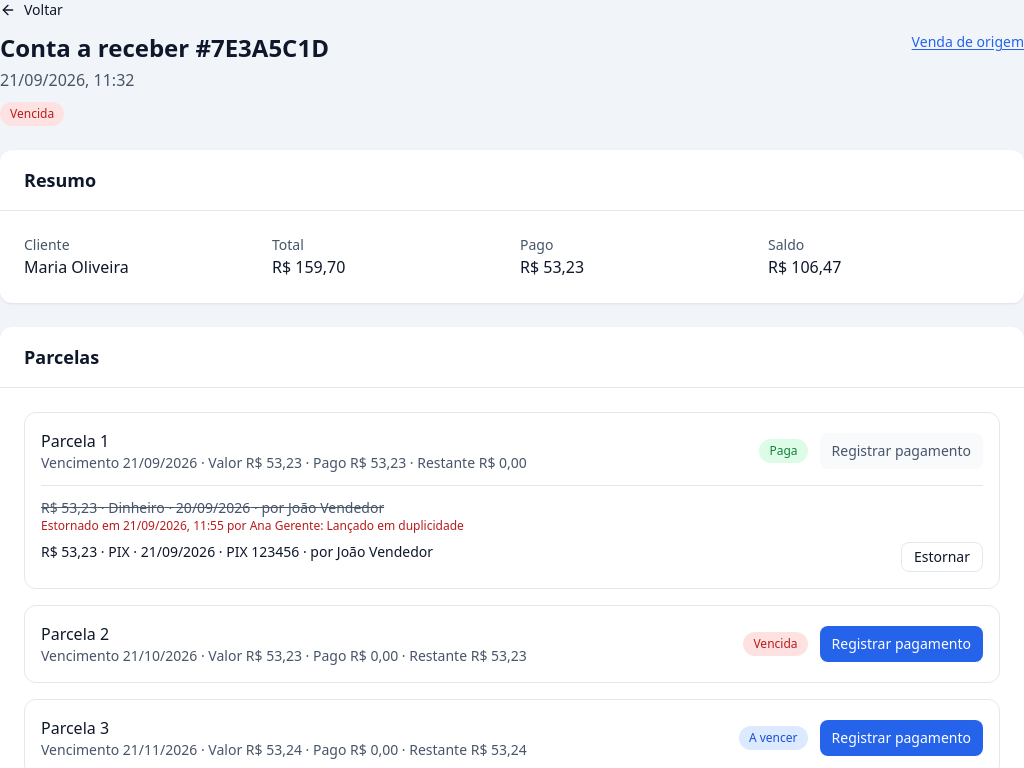
Scenario: Registrar pagamento usa o MoneyInput compartilhado › "1.23,4" é inválido e não envia
This screenshot has width=1024, height=768.
Expected: the text "Maria Oliveira" is shown, left=24, top=256, right=129, bottom=278
Click the button "Registrar pagamento" in the row of "21/10/2026" at (901, 644), box left=820, top=626, right=983, bottom=662
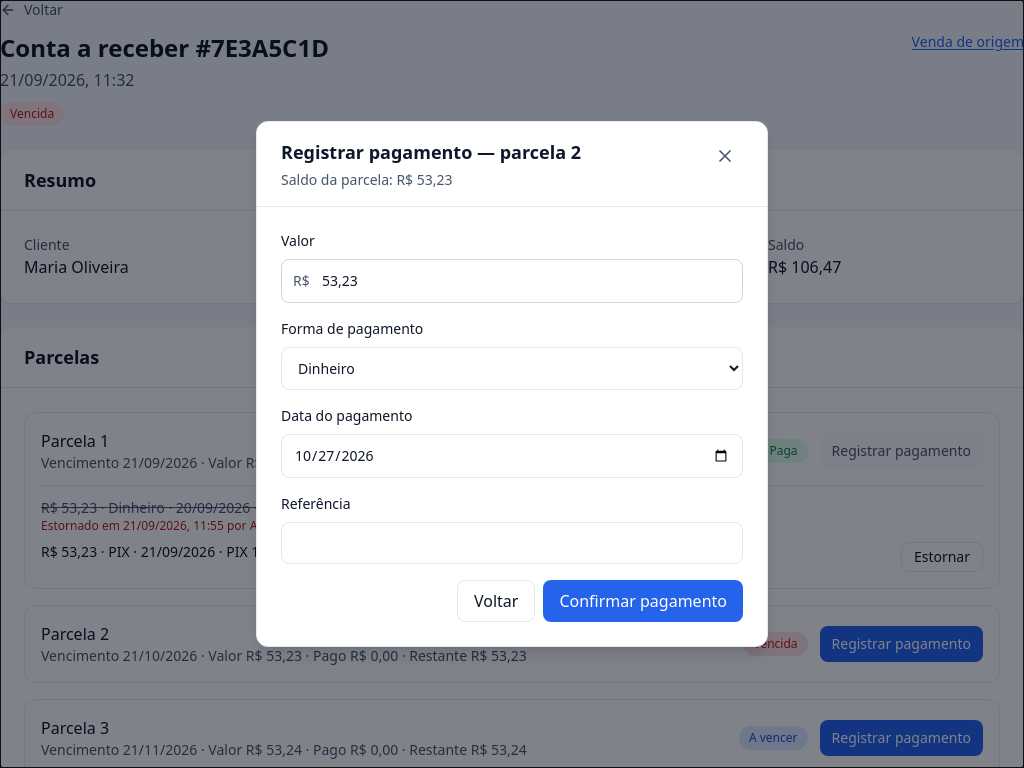
Replace the text in the field labelled "Valor" with "1.23,4" at (512, 281), box left=281, top=259, right=743, bottom=303
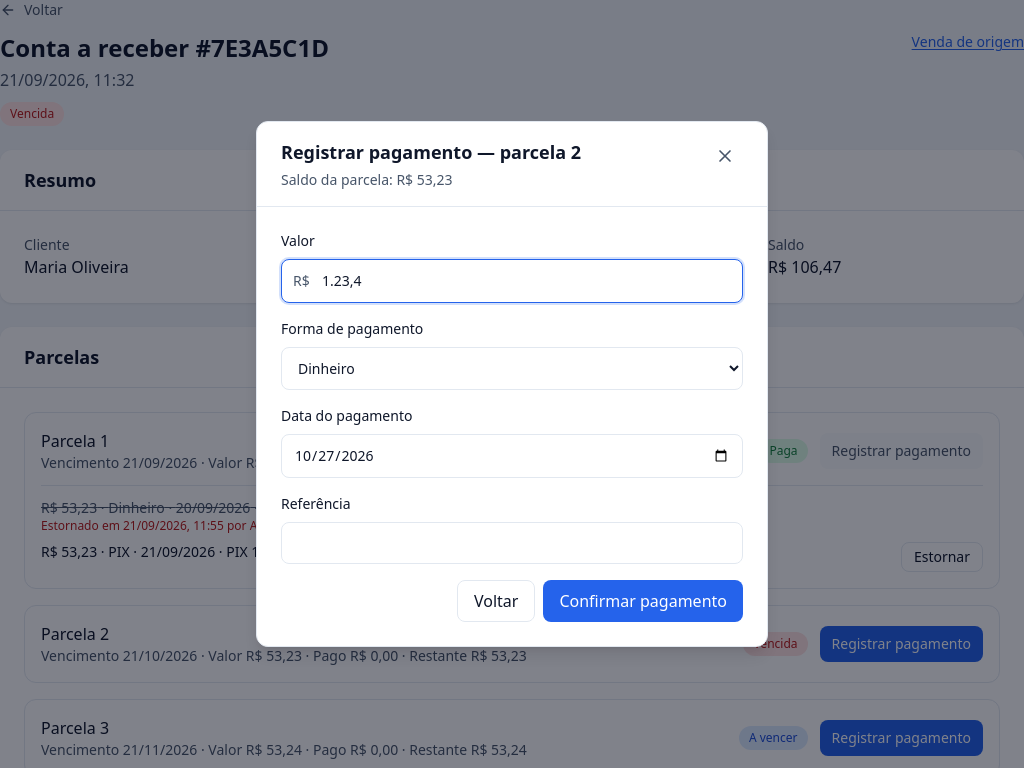
Click the button "Confirmar pagamento" at (643, 601), box left=543, top=580, right=743, bottom=622
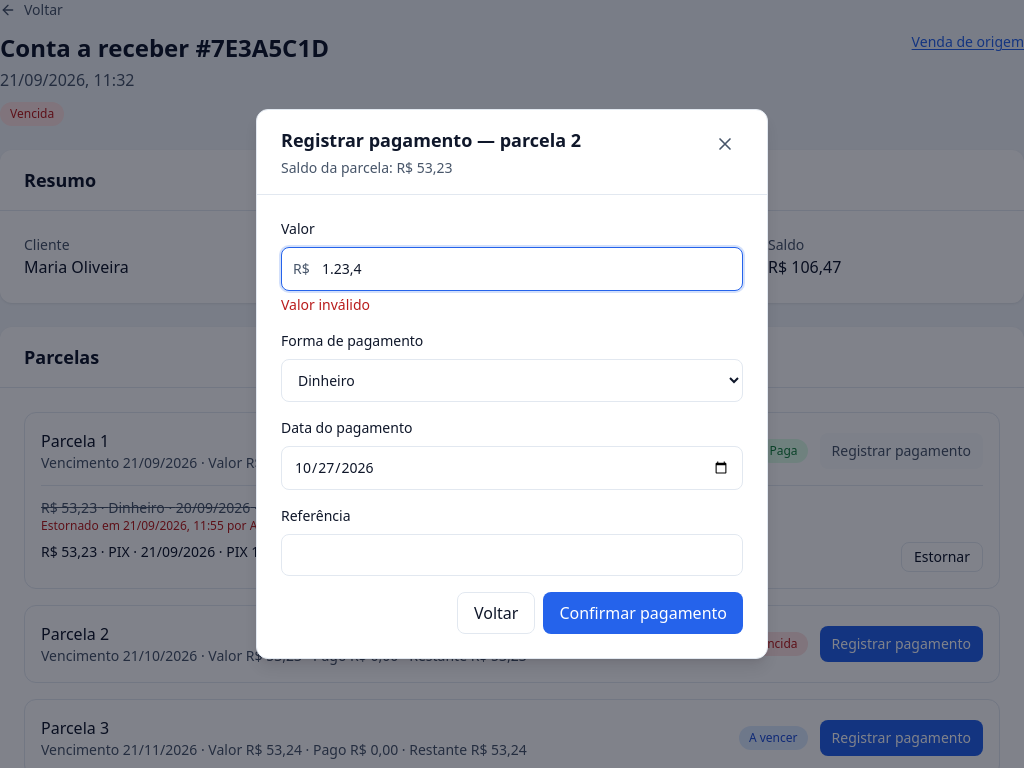
Now the text "Valor inválido" is shown, box left=281, top=295, right=370, bottom=314
